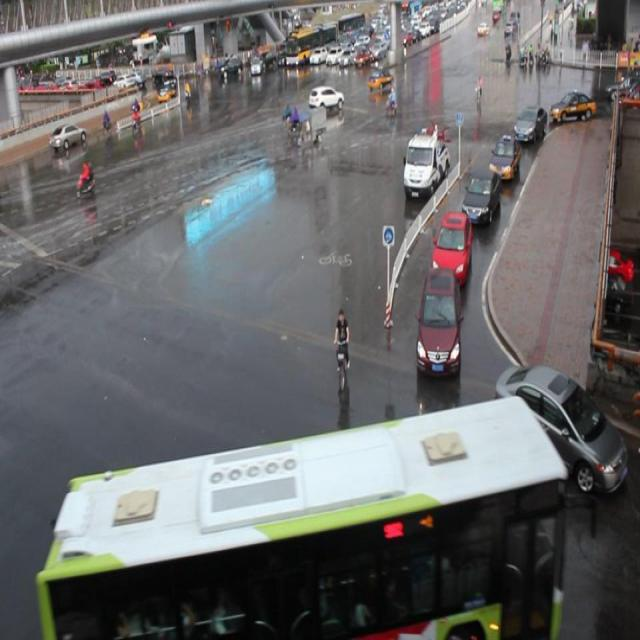BigCar: (36, 402, 543, 640)
car: (499, 355, 628, 504), (418, 270, 461, 383), (402, 128, 450, 204), (432, 202, 473, 280), (461, 165, 498, 233), (554, 81, 602, 129), (517, 98, 549, 159), (488, 126, 518, 189), (306, 77, 347, 113), (49, 124, 89, 156), (286, 30, 308, 70), (221, 52, 243, 84), (370, 66, 396, 92), (310, 41, 327, 69), (340, 44, 355, 71), (251, 53, 265, 80), (356, 48, 374, 67), (326, 45, 339, 66), (159, 82, 169, 100)
